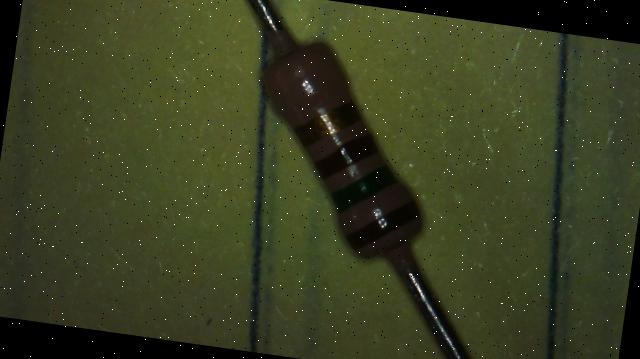brown: (348, 206, 422, 248), (317, 136, 375, 172)
gold: (301, 103, 358, 137)
green: (337, 167, 392, 207)
resistor: (223, 23, 460, 286)
